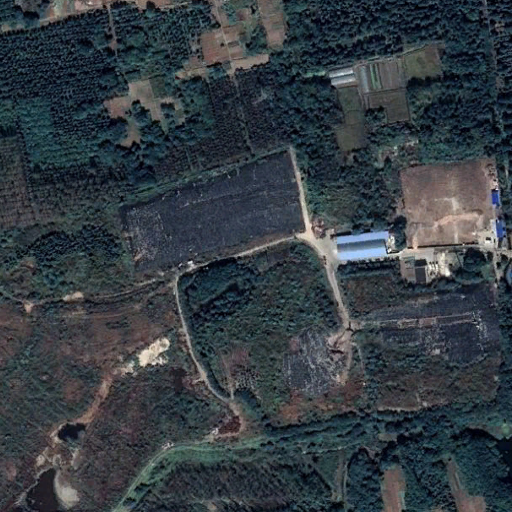lf: (119, 150, 309, 275)
